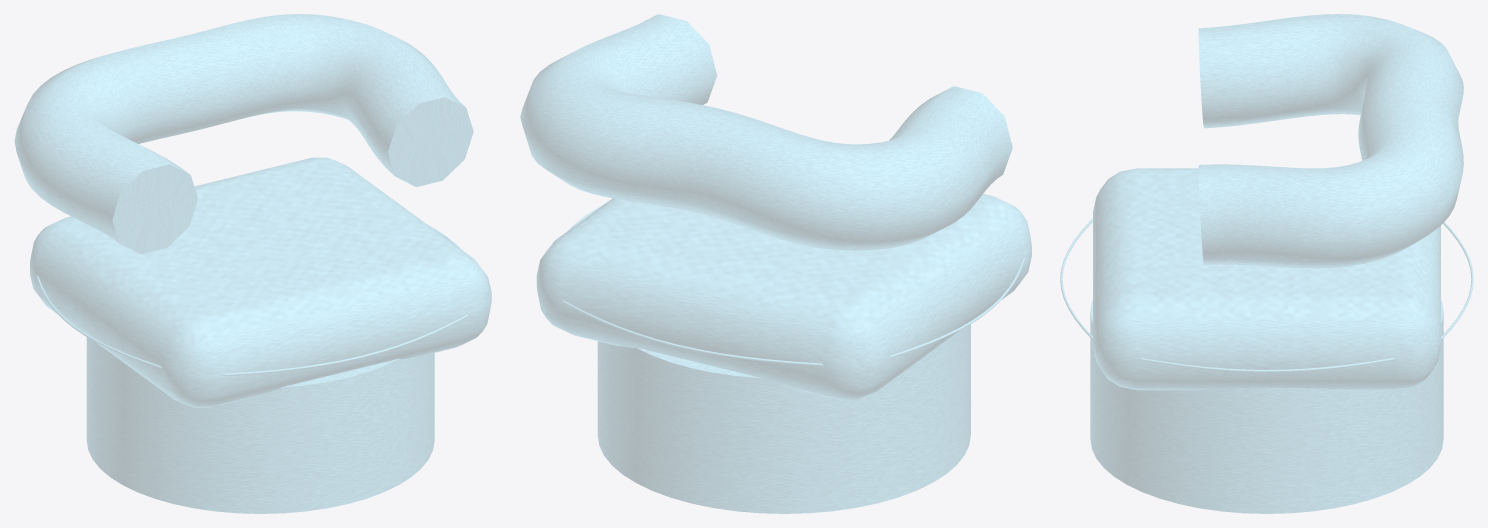
Rendered from ref04_04.glb.
3 renders of one model, left to right at view 1: azimuth 30°, elevation 25°; view 2: azimuth 150°, elevation 25°; view 3: azimuth 270°, elevation 25°, orthographic. The views are drawn at different scales.
Parts seen in each view (by area): view 1: ref04_04; view 2: ref04_04; view 3: ref04_04.
Part boxes in pixels (x1,y1,x2,y2): ref04_04: (14, 14, 491, 513); ref04_04: (520, 14, 1031, 513); ref04_04: (1060, 14, 1473, 513).
Size of the model in its own units: 0.9211 by 0.7782 by 0.8198.
1 material, 1 textured.
